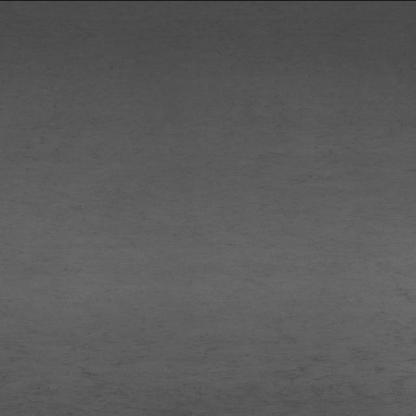silk_spot: (74, 332, 388, 416)
